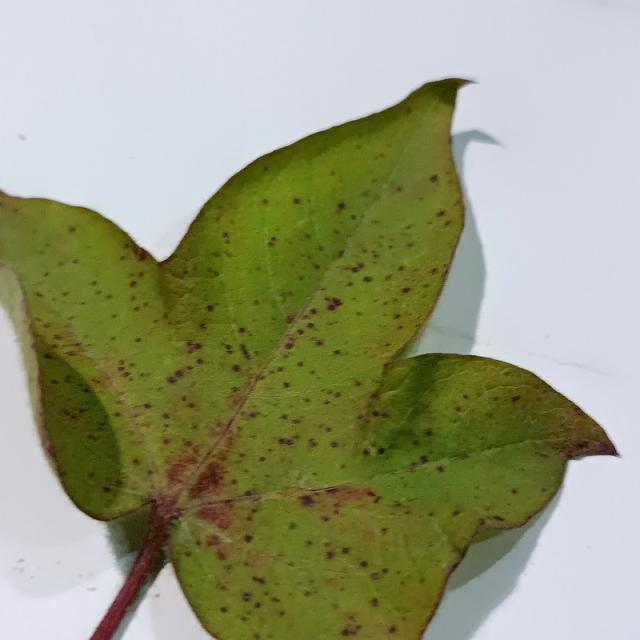Bacterial_Blight: (185, 458, 229, 505), (167, 358, 202, 386), (573, 437, 617, 458), (167, 263, 190, 282), (131, 242, 150, 262), (43, 437, 58, 462), (324, 295, 342, 309), (166, 512, 181, 528), (341, 624, 360, 636), (239, 343, 252, 360), (185, 341, 201, 354), (345, 263, 363, 274), (77, 571, 95, 582), (299, 494, 314, 507), (166, 372, 180, 384), (243, 488, 258, 498), (278, 437, 294, 446), (223, 343, 234, 355), (252, 575, 265, 585), (285, 314, 296, 324), (173, 369, 184, 379), (243, 533, 253, 543), (375, 446, 386, 455), (365, 489, 376, 498), (429, 174, 439, 183), (336, 249, 345, 259), (284, 341, 294, 350), (370, 572, 380, 581), (419, 454, 429, 463), (313, 338, 323, 347), (362, 275, 373, 283), (493, 515, 505, 522), (267, 238, 276, 247), (325, 550, 334, 559), (242, 593, 251, 602), (388, 625, 397, 634), (511, 395, 521, 403), (205, 304, 215, 312), (248, 411, 258, 419), (102, 485, 112, 493), (337, 202, 346, 210), (401, 286, 410, 294), (232, 364, 241, 372), (436, 465, 445, 473), (309, 439, 318, 447), (370, 598, 378, 607), (424, 429, 433, 437), (143, 402, 152, 410), (131, 457, 140, 465), (122, 370, 131, 378), (341, 546, 350, 554), (162, 437, 171, 445), (288, 521, 297, 529), (219, 606, 228, 614), (362, 448, 372, 455), (34, 291, 44, 298), (43, 352, 53, 359), (68, 225, 76, 233), (360, 560, 368, 568), (310, 307, 318, 315), (196, 357, 204, 365), (430, 267, 438, 275), (478, 518, 486, 526), (18, 133, 26, 141), (436, 210, 445, 217), (406, 242, 415, 249), (296, 328, 305, 335), (161, 412, 170, 419), (237, 326, 246, 333), (452, 509, 461, 516), (293, 198, 301, 205), (283, 381, 291, 388), (129, 280, 137, 287), (261, 198, 269, 205), (330, 441, 338, 448), (258, 455, 266, 462), (184, 550, 192, 557), (16, 558, 25, 564), (87, 587, 97, 592), (222, 231, 229, 238), (462, 393, 469, 400), (394, 313, 401, 320), (334, 391, 341, 398), (333, 349, 341, 355), (134, 337, 142, 343), (198, 323, 206, 329), (324, 426, 332, 432), (72, 258, 79, 264), (90, 280, 97, 286), (511, 488, 518, 494), (396, 185, 402, 192), (297, 361, 304, 367), (154, 593, 160, 599)
Cotton: (0, 79, 616, 639)
